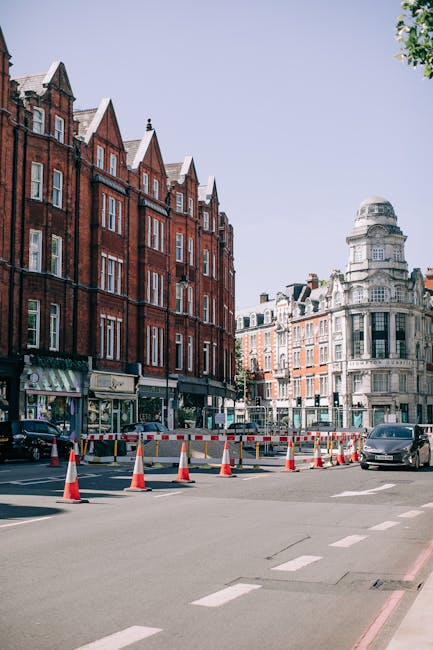traffic_cone: (55, 449, 89, 504), (123, 440, 152, 493), (171, 441, 196, 484), (216, 440, 237, 478), (280, 439, 300, 472), (309, 438, 326, 469), (46, 436, 61, 468), (336, 438, 349, 466), (72, 438, 83, 466), (349, 437, 359, 462)
